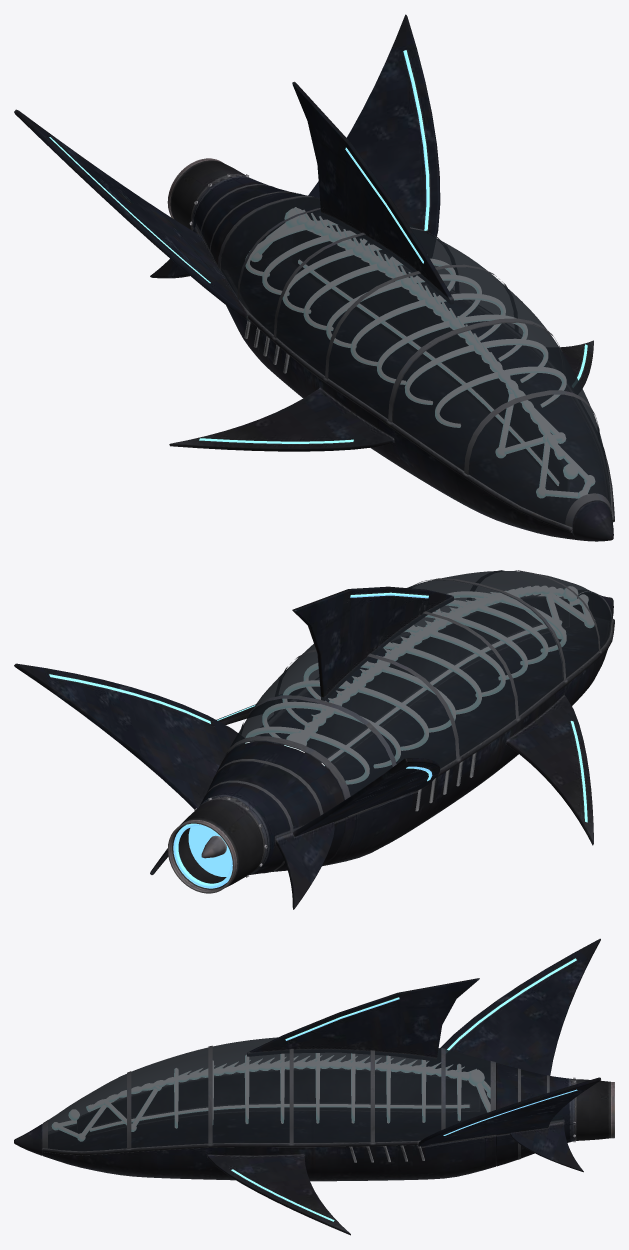
File: phantom.glb
The picture shows the model from 3 angles, top to bottom: view 1: azimuth 30°, elevation 25°; view 2: azimuth 150°, elevation 25°; view 3: azimuth 270°, elevation 25°; orthographic projection. The views are drawn at different scales.
Parts seen in each view (by area): view 1: phantom_body, phantom_glass, phantom_emissive; view 2: phantom_body, phantom_glass, phantom_emissive; view 3: phantom_body, phantom_glass, phantom_emissive.
Part boxes in pixels (x1=…): phantom_body: x1=14, y1=14, x2=614, y2=541; phantom_glass: x1=220, y1=197, x2=611, y2=526; phantom_emissive: x1=49, y1=50, x2=594, y2=498; phantom_body: x1=14, y1=570, x2=614, y2=909; phantom_glass: x1=225, y1=571, x2=611, y2=795; phantom_emissive: x1=49, y1=586, x2=594, y2=888; phantom_body: x1=14, y1=938, x2=614, y2=1235; phantom_glass: x1=48, y1=1037, x2=490, y2=1151; phantom_emissive: x1=52, y1=958, x2=577, y2=1221.
Bounding box in the file's own units: 2.74 × 1.54 × 4.59.
Materials: 5 (2 with a texture image).
